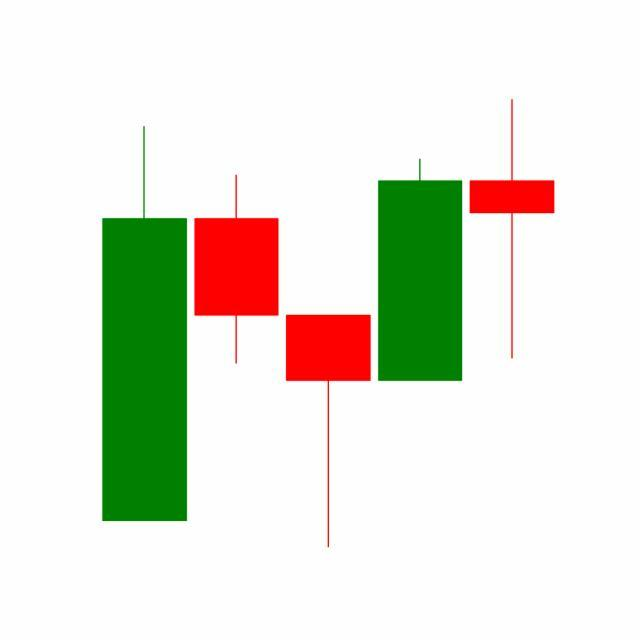Spinning Top: (466, 96, 559, 362)
